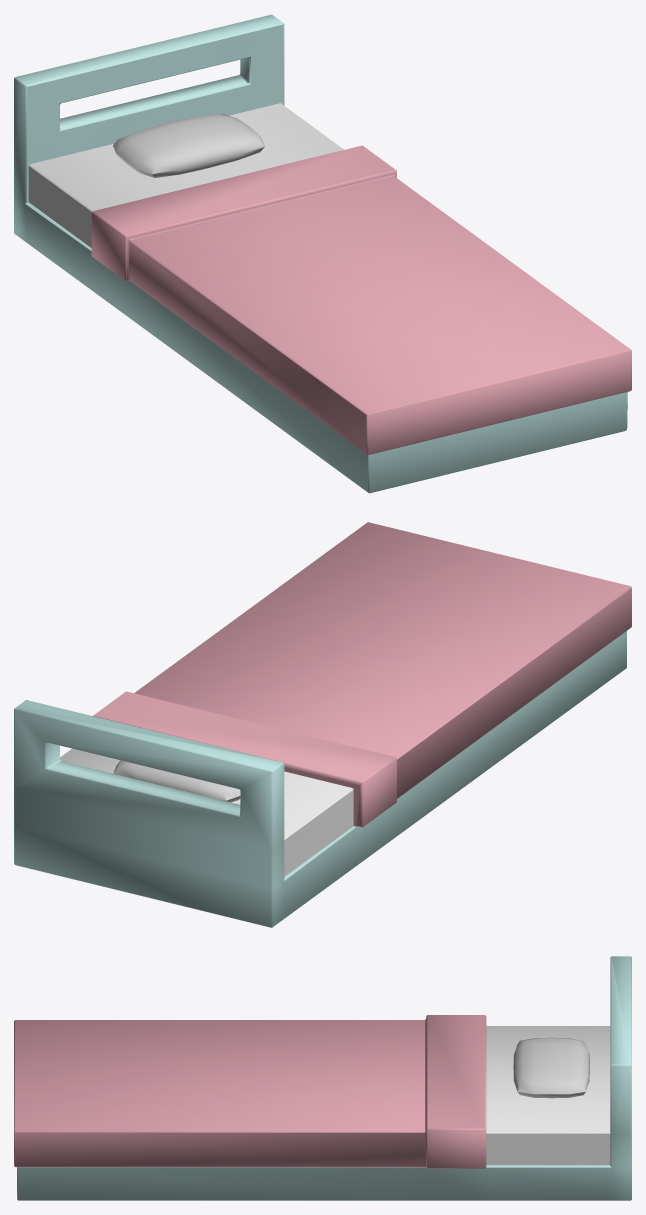
File: Bed_01_03.fbx
3 renders of one model, top to bottom at view 1: azimuth 30°, elevation 25°; view 2: azimuth 150°, elevation 25°; view 3: azimuth 270°, elevation 25°, orthographic. The views are drawn at different scales.
Visible parts, largest first — view 1: Bed_01_03; view 2: Bed_01_03; view 3: Bed_01_03.
Part boxes in pixels (bbox=[...]): Bed_01_03: bbox=[14, 14, 631, 493]; Bed_01_03: bbox=[14, 522, 631, 927]; Bed_01_03: bbox=[14, 956, 631, 1200].
Size of the model in its own units: 1.63 by 0.9009 by 3.71.
